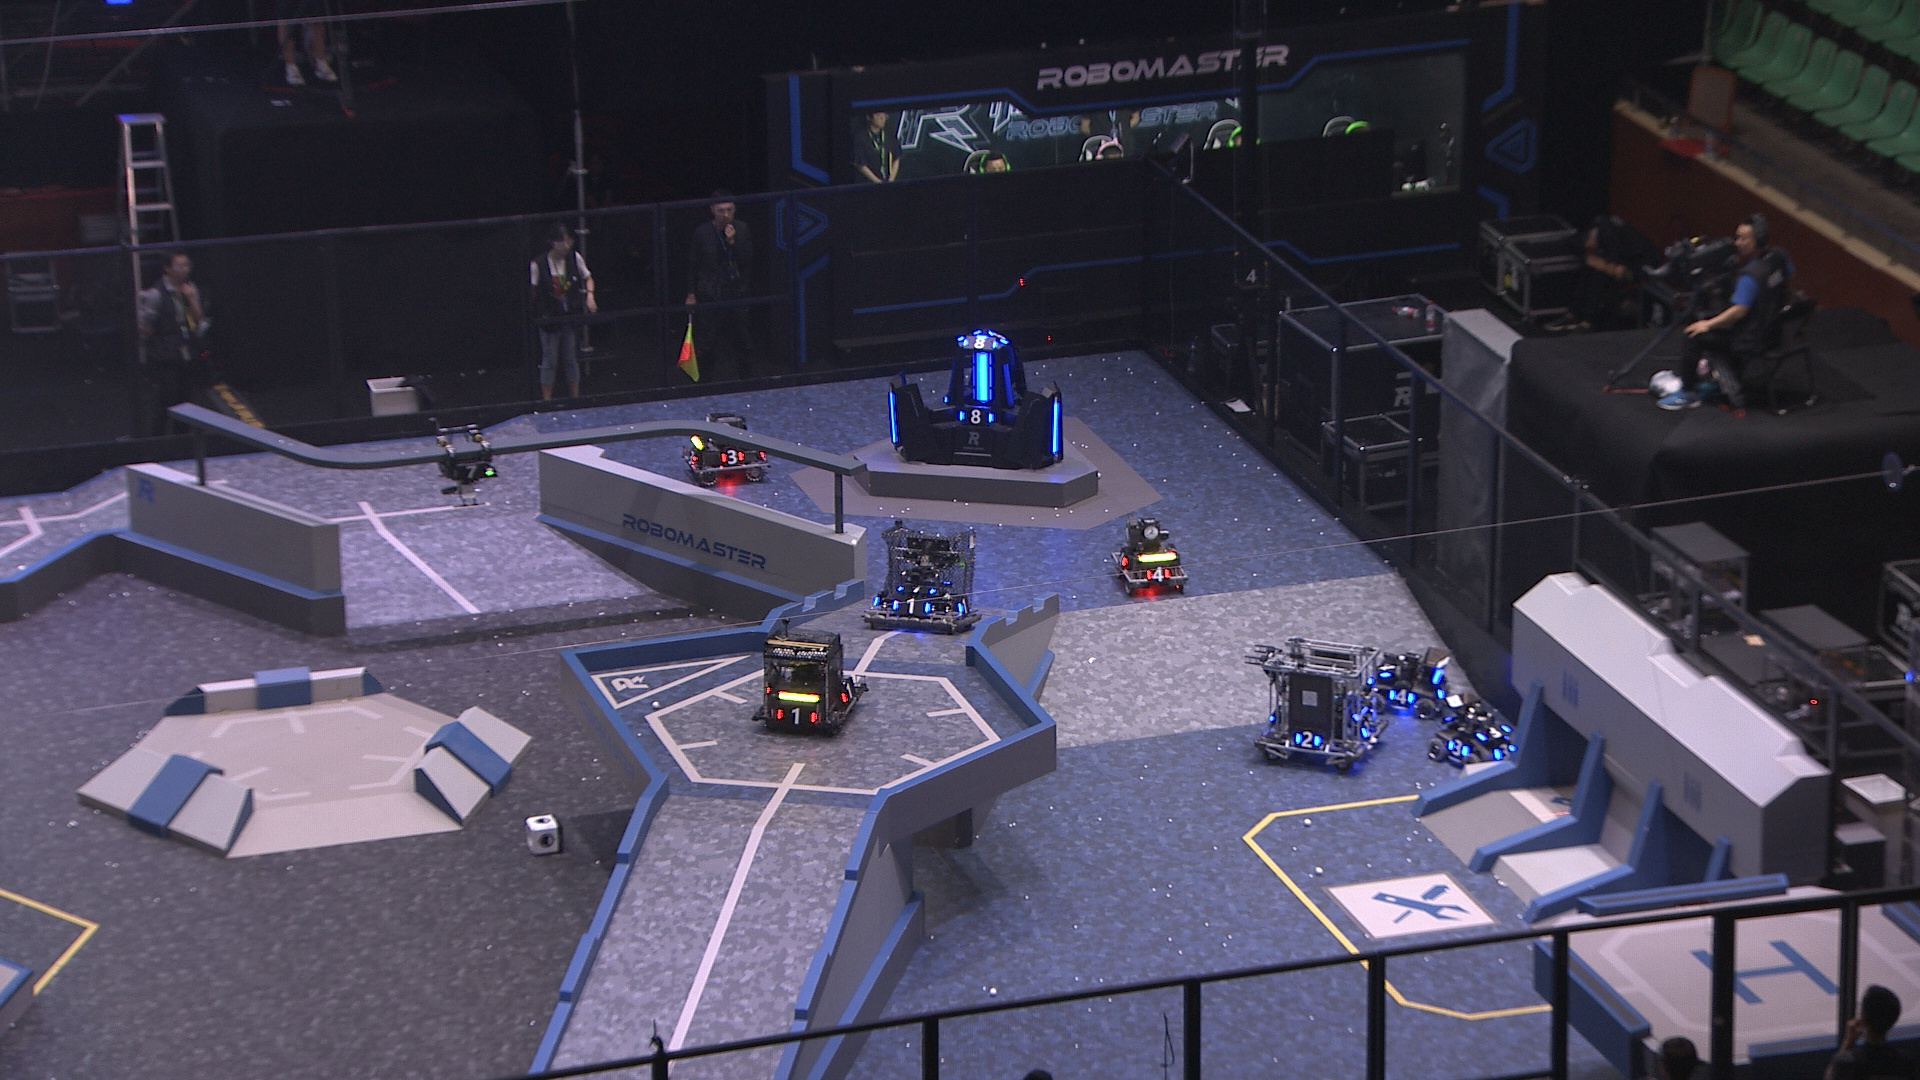armor: (971, 351, 997, 405), (773, 705, 818, 727), (887, 597, 930, 618), (885, 390, 901, 444), (1050, 396, 1064, 454), (452, 462, 493, 481), (1474, 719, 1510, 740), (894, 582, 939, 597), (953, 409, 997, 425), (998, 363, 1015, 401), (1387, 684, 1416, 707), (961, 334, 1000, 349), (836, 679, 860, 704), (719, 446, 746, 467), (1295, 731, 1323, 750), (1447, 736, 1472, 757), (1375, 655, 1396, 679), (1491, 740, 1516, 760), (1145, 566, 1171, 584), (953, 595, 972, 618), (1358, 717, 1375, 738), (988, 328, 1007, 344), (684, 448, 699, 469), (1116, 549, 1127, 570)
base: (880, 324, 1067, 469)
car: (1251, 626, 1391, 767), (749, 617, 877, 735), (860, 520, 986, 636), (1423, 688, 1522, 770), (1109, 512, 1192, 599), (680, 409, 771, 488), (1365, 637, 1457, 713)
watcher: (427, 417, 500, 506)
